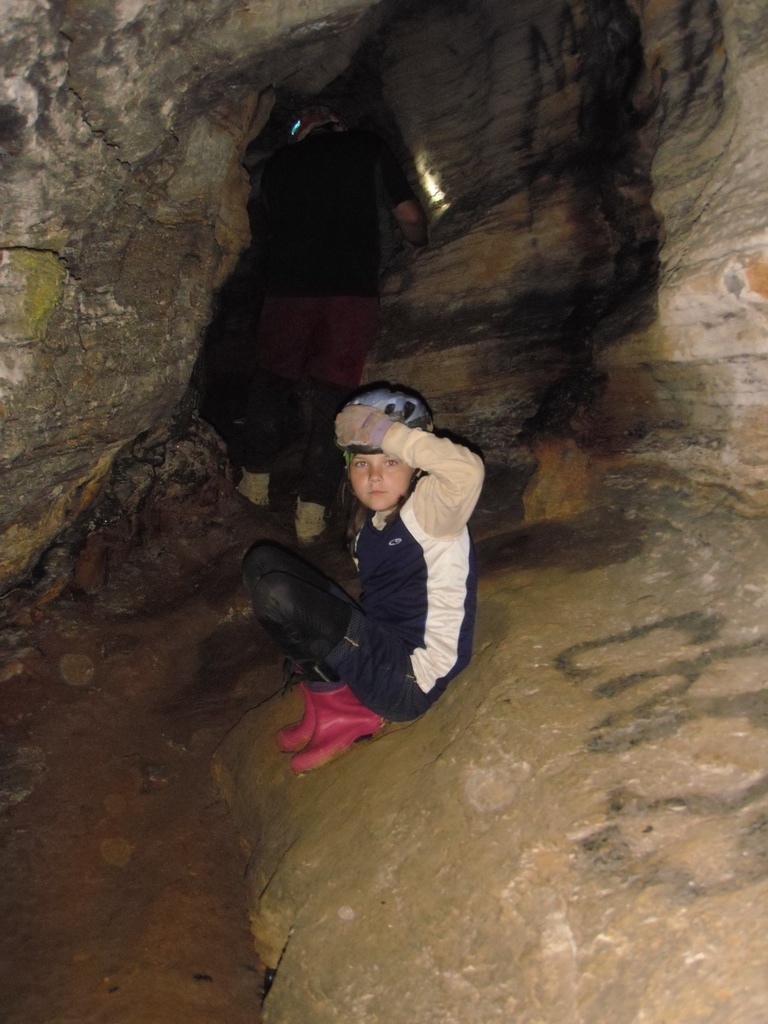Human-face: (328, 387, 465, 527), (346, 449, 416, 503)
